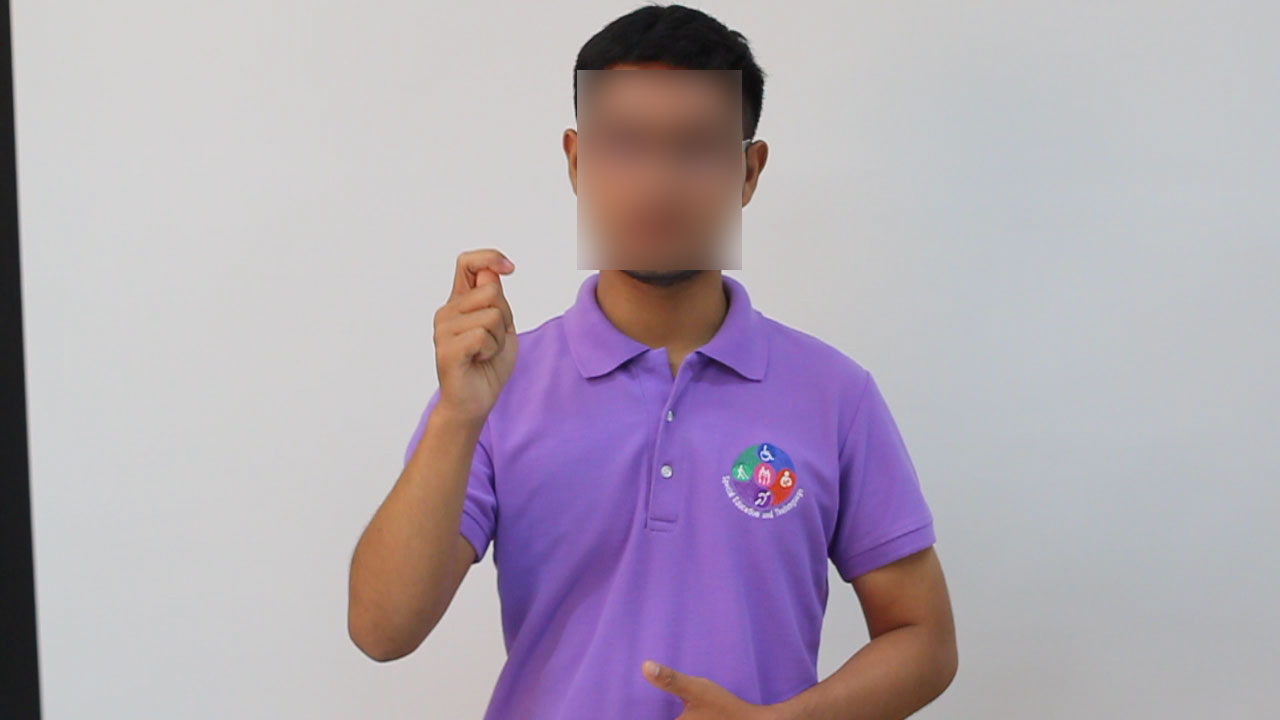or: (418, 244, 532, 423)
